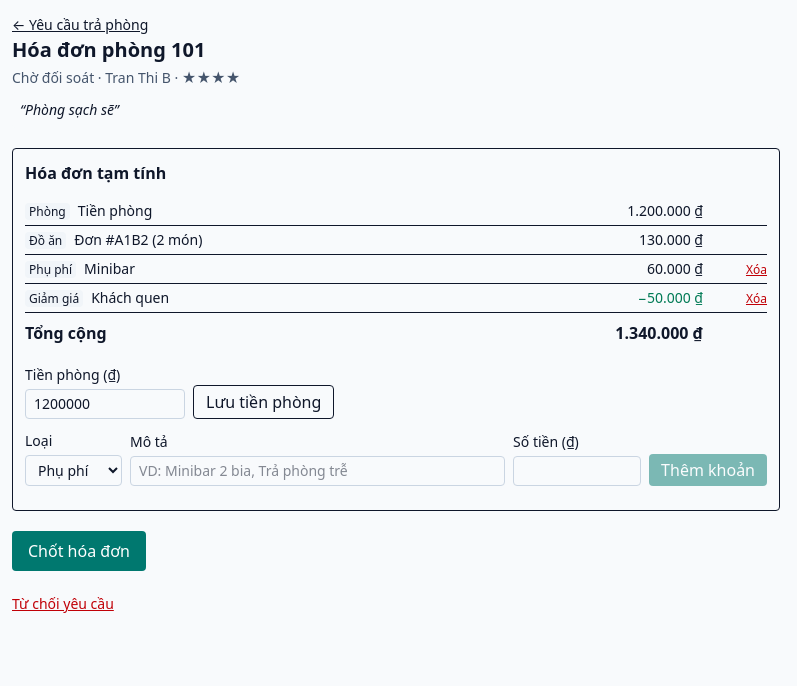
CheckoutDesk — before the bill is verified › explains BILL_LOCKED
Click the button "Chốt hóa đơn". click: [79, 551]
box: [12,531,146,571]
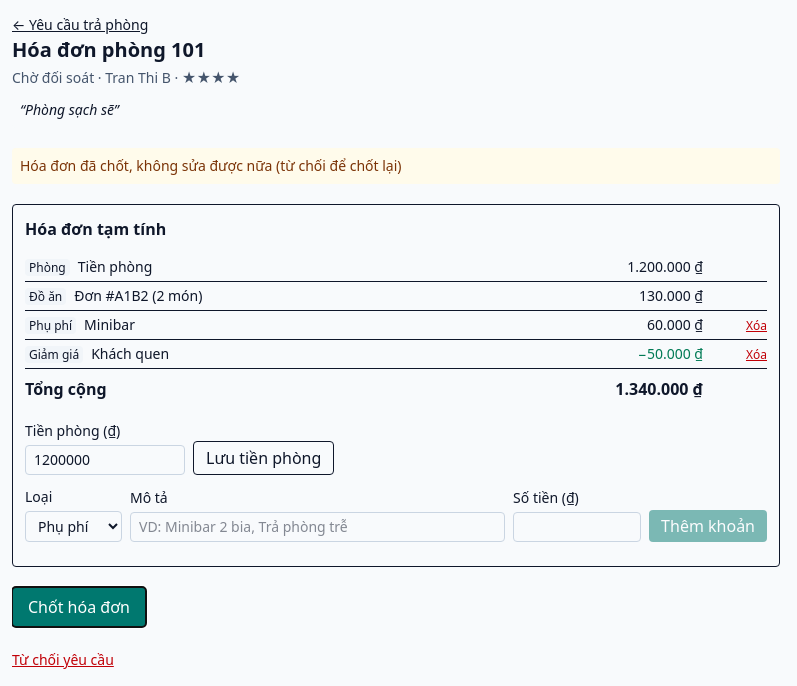
Check: the message shows "Hóa đơn đã chốt", box [20,156,402,175]
